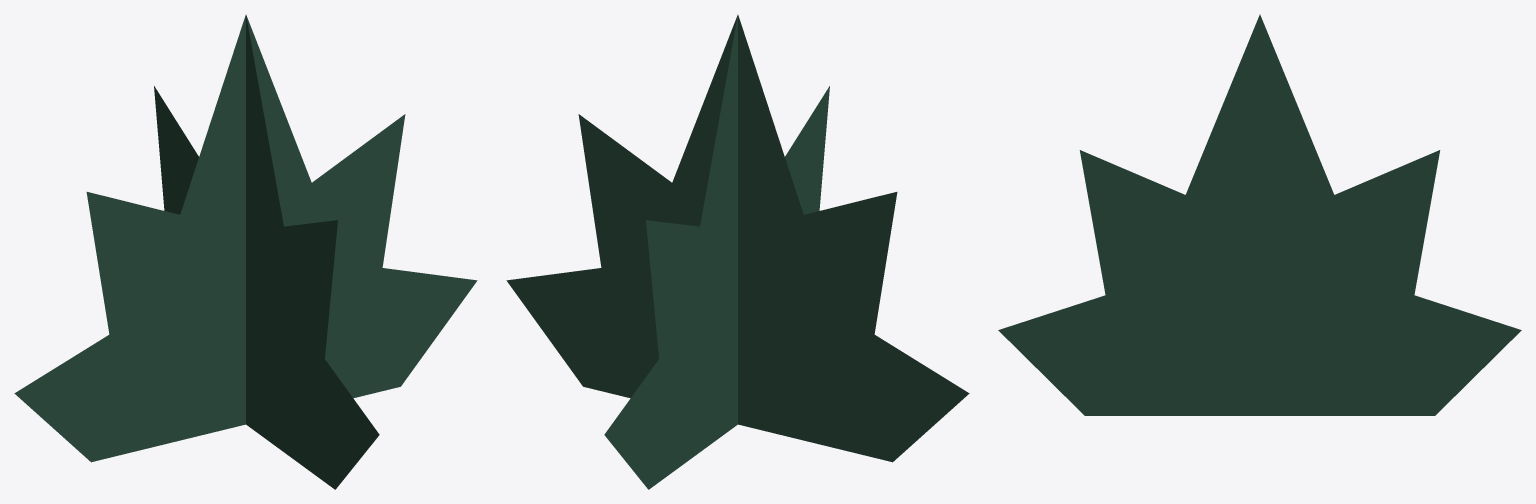
The model's file is Plant_2_01.obj.
The picture shows the model from 3 angles, left to right: view 1: azimuth 30°, elevation 25°; view 2: azimuth 150°, elevation 25°; view 3: azimuth 270°, elevation 25°; orthographic projection. The views are drawn at different scales.
Parts seen in each view (by area): view 1: Mesh1_Plant_2_Model; view 2: Mesh1_Plant_2_Model; view 3: Mesh1_Plant_2_Model.
Part boxes in pixels (left/top/right/bottom): Mesh1_Plant_2_Model: left=14, top=14, right=477, bottom=489; Mesh1_Plant_2_Model: left=506, top=14, right=969, bottom=489; Mesh1_Plant_2_Model: left=998, top=14, right=1521, bottom=415.
Bounding box in the file's own units: 0.7503 × 0.6353 × 0.7503.
